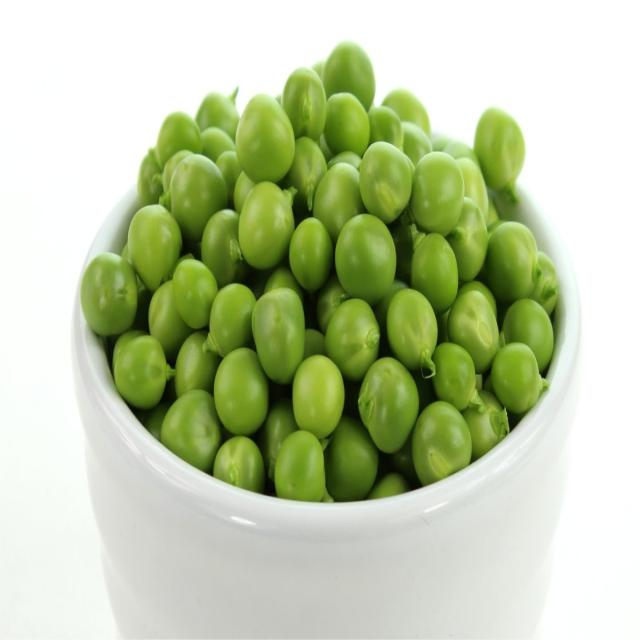Peas: (182, 94, 529, 451), (359, 358, 419, 453), (335, 214, 396, 306), (235, 94, 295, 184), (239, 182, 295, 270), (360, 142, 411, 224)
